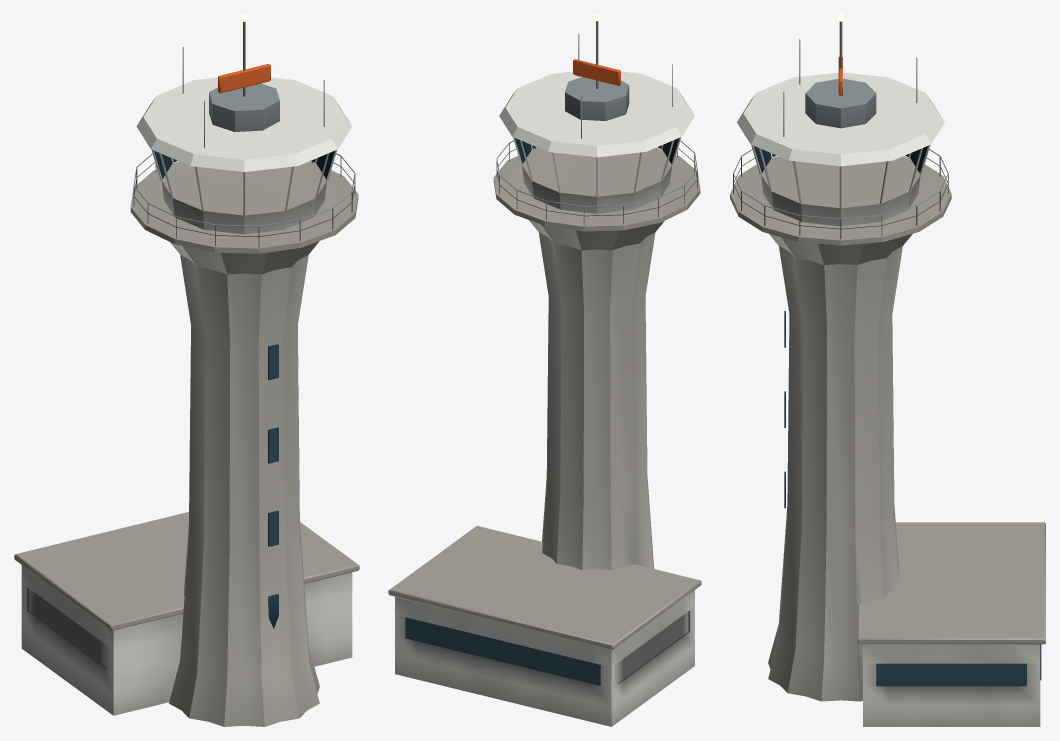
The model's file is control_tower.glb.
3 renders of one model, left to right at view 1: azimuth 30°, elevation 25°; view 2: azimuth 150°, elevation 25°; view 3: azimuth 270°, elevation 25°, orthographic. The views are drawn at different scales.
Parts seen in each view (by area): view 1: control_tower_mesh; view 2: control_tower_mesh; view 3: control_tower_mesh.
Part boxes in pixels (x1,y1,x2,y2): control_tower_mesh: (14,14,359,726); control_tower_mesh: (388,14,701,726); control_tower_mesh: (730,14,1045,726).
Bounding box in the file's own units: 12.5 × 32.7 × 14.25.
